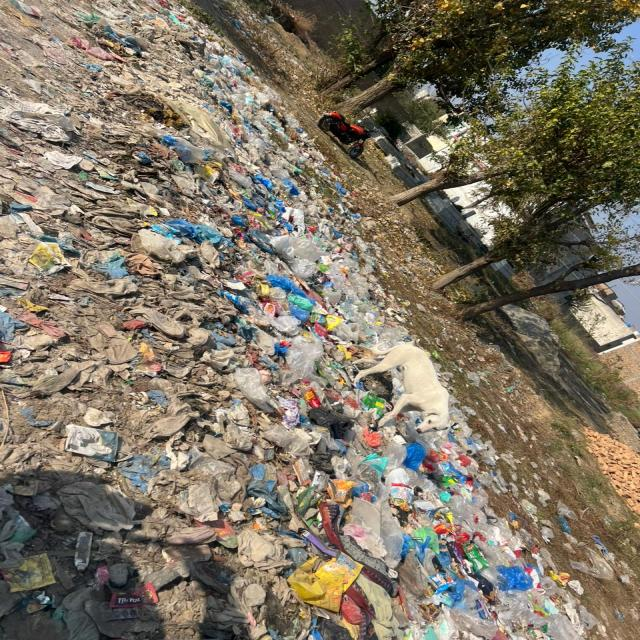garbage: (256, 82, 591, 633), (9, 3, 250, 640)
